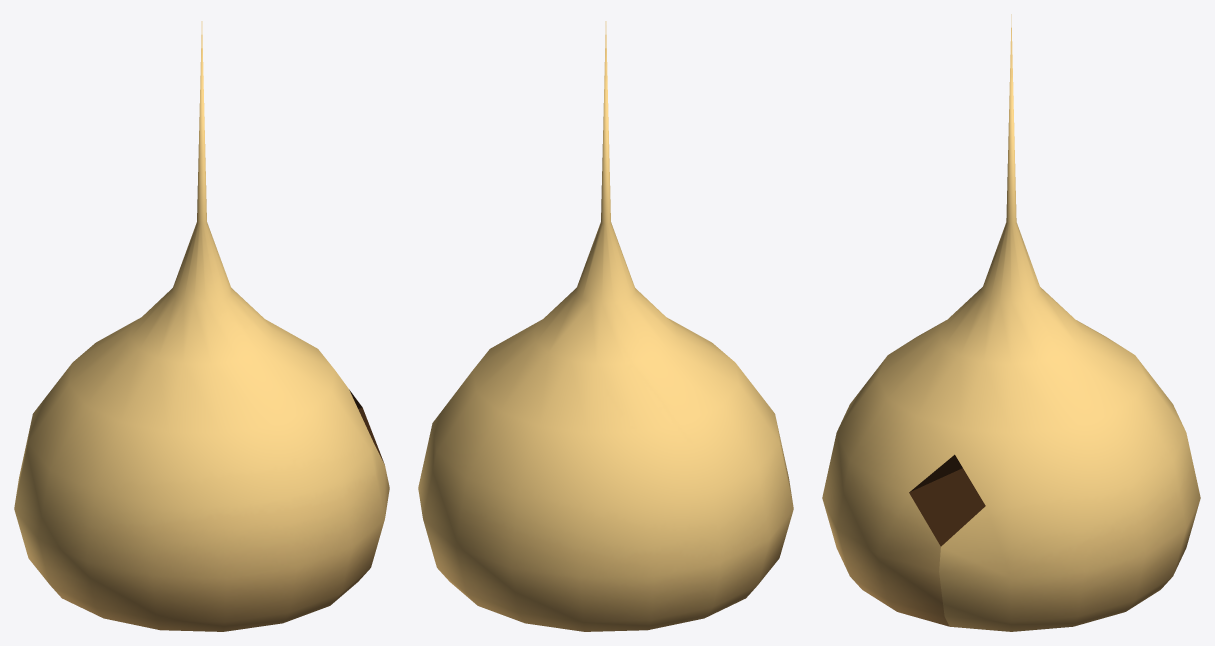
The model's file is dome.FBX.
3 renders of one model, left to right at view 1: azimuth 30°, elevation 25°; view 2: azimuth 150°, elevation 25°; view 3: azimuth 270°, elevation 25°, orthographic.
Visible parts, largest first — view 1: Sphere001; view 2: Sphere001; view 3: Sphere001.
Part boxes in pixels (x1,y1,x2,y2): Sphere001: [14, 21, 389, 631]; Sphere001: [418, 21, 793, 631]; Sphere001: [822, 14, 1200, 631].
Bounding box in the file's own units: 18.52 × 29.67 × 18.52.
Materials: 1 (1 with a texture image).
